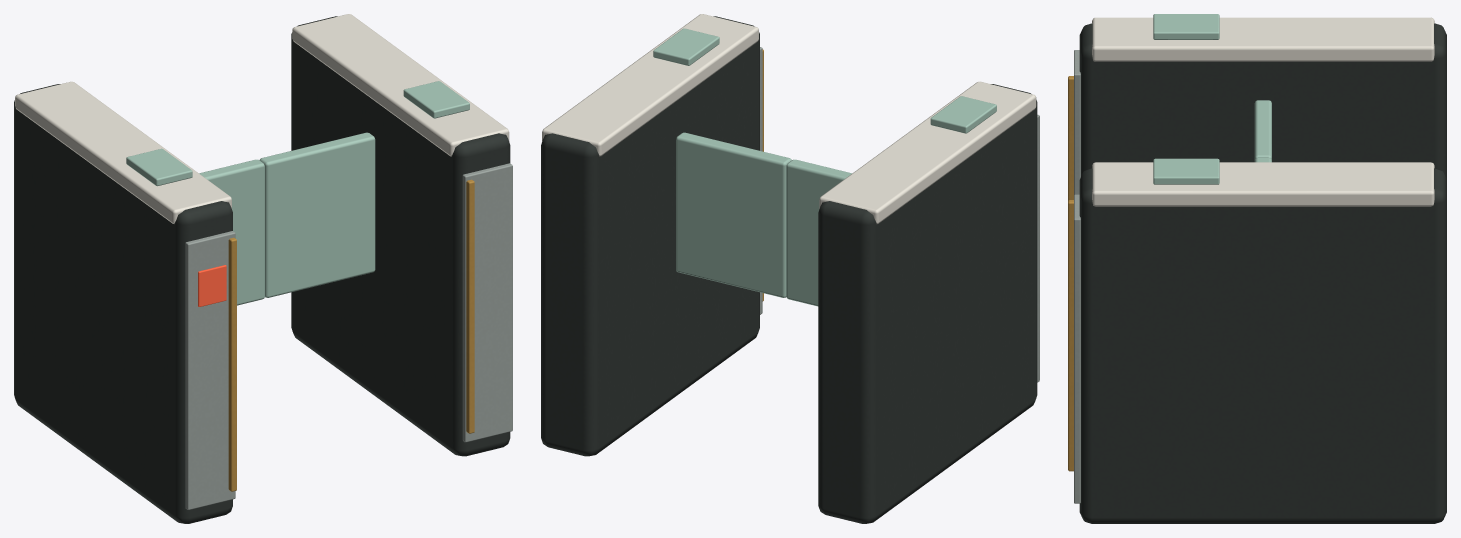
File: fare-gate-broken.glb
The picture shows the model from 3 angles, left to right: view 1: azimuth 30°, elevation 25°; view 2: azimuth 150°, elevation 25°; view 3: azimuth 270°, elevation 25°; orthographic projection. The views are drawn at different scales.
Visible parts, largest first — view 1: gate_cabinet (×2), gate_front_panel (×2), gate_blade (×2), gate_top (×2), gate_trim (×2), tap_pad (×2), status_indicator; view 2: gate_cabinet (×2), gate_blade (×2), gate_top (×2), tap_pad (×2), gate_front_panel; view 3: gate_cabinet (×2), gate_top (×2), tap_pad (×2), gate_front_panel (×2), gate_trim (×2), gate_blade.
Part boxes in pixels (x1,y1,x2,y2): gate_cabinet (×2): (14,16,510,523); gate_front_panel (×2): (185,163,512,509); gate_blade (×2): (199,132,375,305); gate_top (×2): (15,14,509,223); gate_trim (×2): (228,179,474,491); tap_pad (×2): (126,81,469,186); status_indicator: (198,265,226,306); gate_cabinet (×2): (541,16,1037,523); gate_blade (×2): (676,132,851,306); gate_top (×2): (542,14,1036,223); tap_pad (×2): (653,28,996,133); gate_front_panel: (1037,114,1039,382); gate_cabinet (×2): (1079,23,1446,523); gate_top (×2): (1092,17,1434,206); tap_pad (×2): (1153,14,1219,184); gate_front_panel (×2): (1074,50,1080,503); gate_trim (×2): (1068,76,1073,471); gate_blade: (1254,100,1271,160).
Size of the model in its own units: 1.19 by 1.09 by 1.08.
6 materials, 3 textured.
